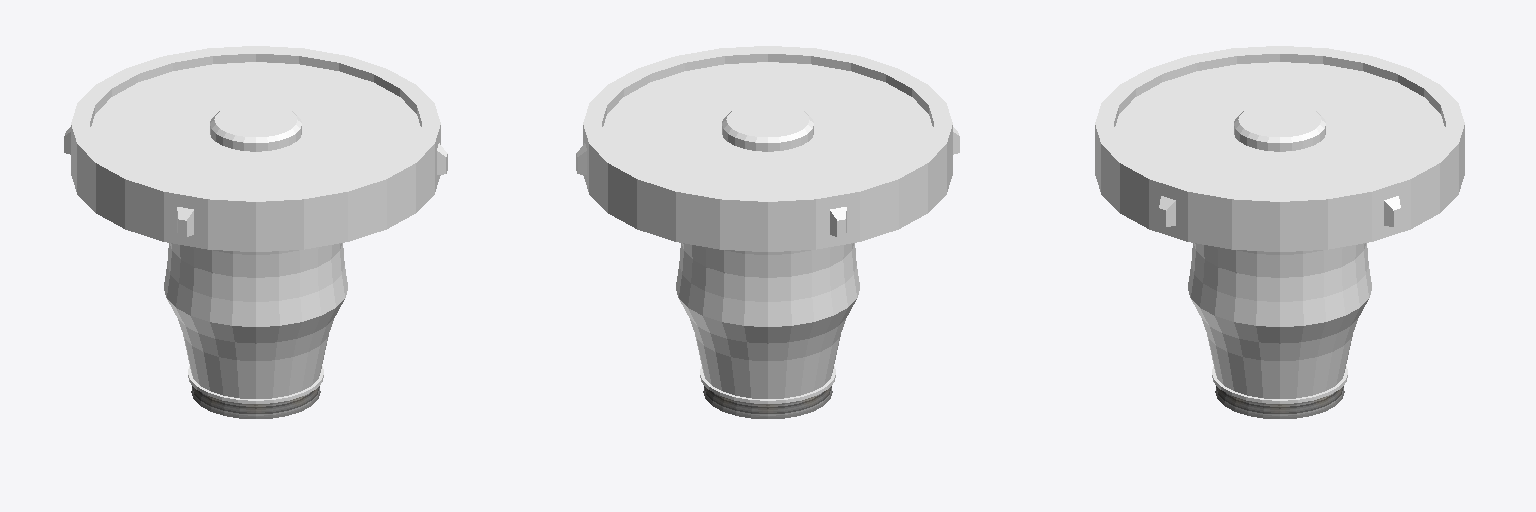
3 views of the same model, side by side, from view 1: azimuth 30°, elevation 25°; view 2: azimuth 150°, elevation 25°; view 3: azimuth 270°, elevation 25° (orthographic).
Parts seen in each view (by area): view 1: ALV_3_Engine_1, ALV_3_Engine_1_Nozzle; view 2: ALV_3_Engine_1, ALV_3_Engine_1_Nozzle; view 3: ALV_3_Engine_1, ALV_3_Engine_1_Nozzle.
Boxes of the visible parts, x1,y1,x2,y2 form: ALV_3_Engine_1: [64, 46, 447, 403]; ALV_3_Engine_1_Nozzle: [191, 386, 320, 418]; ALV_3_Engine_1: [576, 46, 959, 403]; ALV_3_Engine_1_Nozzle: [703, 386, 832, 418]; ALV_3_Engine_1: [1095, 46, 1464, 403]; ALV_3_Engine_1_Nozzle: [1215, 386, 1344, 418].
Size of the model in its own units: 2.5 by 2.03 by 2.5.
2 materials, 1 textured.